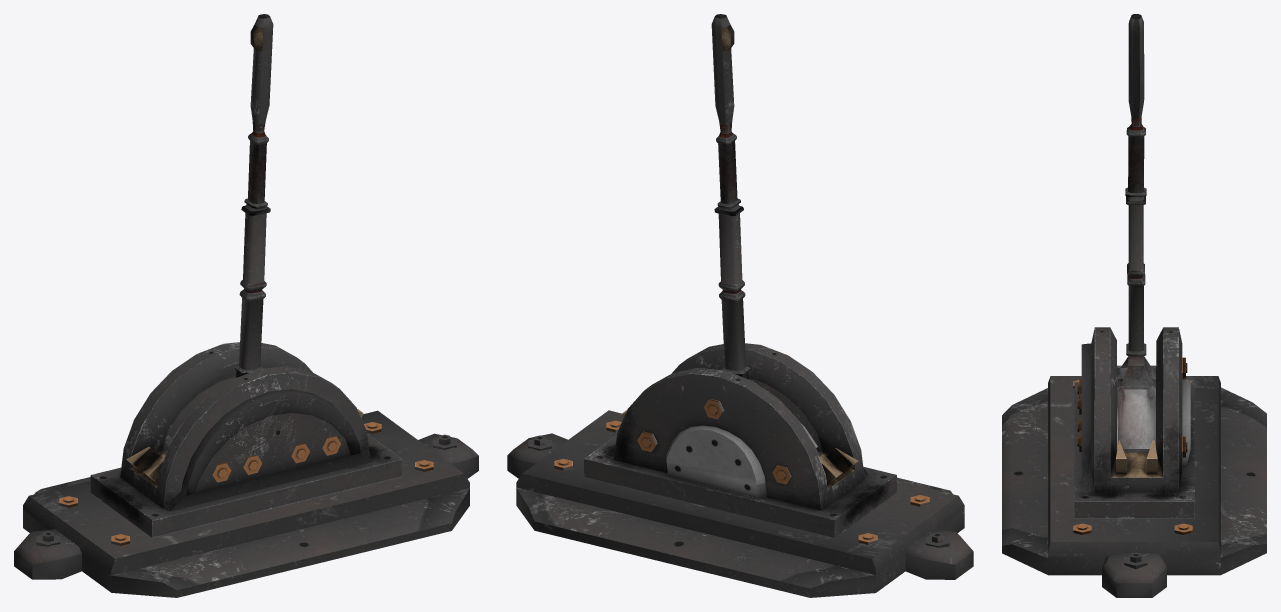
File: Floor Lever 2 Static.fbx
3 views of the same model, side by side, from view 1: azimuth 30°, elevation 25°; view 2: azimuth 150°, elevation 25°; view 3: azimuth 270°, elevation 25° (orthographic). The views are drawn at different scales.
Visible parts, largest first — view 1: Lever; view 2: Lever; view 3: Lever.
Boxes of the visible parts, left/top/right/bottom form: Lever: left=14, top=14, right=478, bottom=597; Lever: left=507, top=14, right=973, bottom=597; Lever: left=1002, top=14, right=1266, bottom=597.
Size of the model in its own units: 172 by 183 by 90.47.
